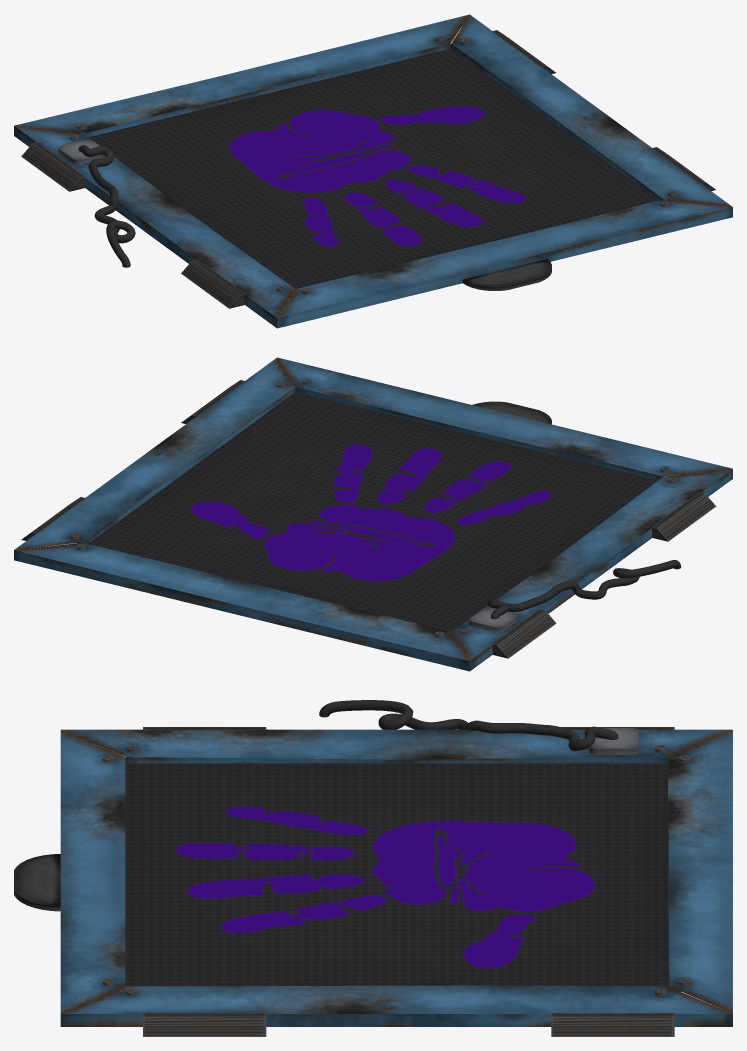
The model's file is JumpPadV1.fbx.
3 views of the same model, one above another, from view 1: azimuth 30°, elevation 25°; view 2: azimuth 150°, elevation 25°; view 3: azimuth 270°, elevation 25° (orthographic). The views are drawn at different scales.
Parts seen in each view (by area): view 1: Pad, fio1; view 2: Pad, fio1; view 3: Pad, fio1.
Part boxes in pixels (x1,y1,x2,y2): Pad: (14,14,732,328); fio1: (78,145,135,267); Pad: (14,357,732,671); fio1: (487,560,681,619); Pad: (14,727,732,1036); fio1: (319,700,618,751).
Bounding box in the file's own units: 321 × 14.22 × 299.
